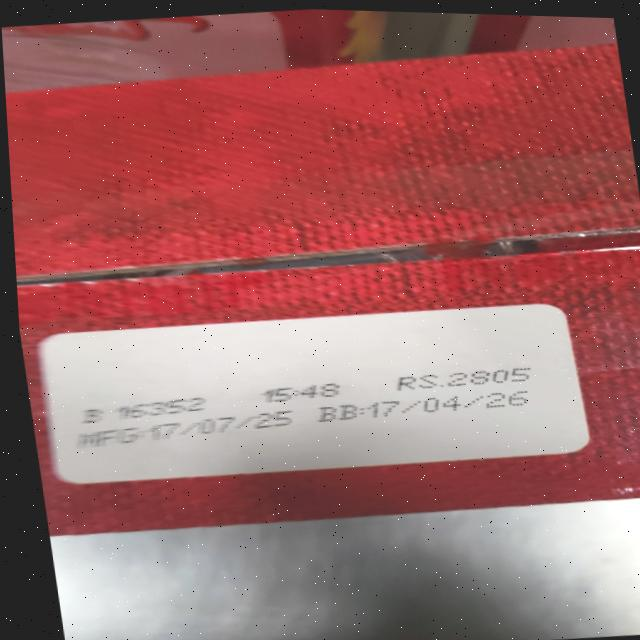BB: (317, 383, 539, 428)
MFG: (73, 404, 300, 453)
RS: (389, 362, 538, 395), (73, 392, 213, 427)
TimeStamp: (258, 380, 345, 406)
